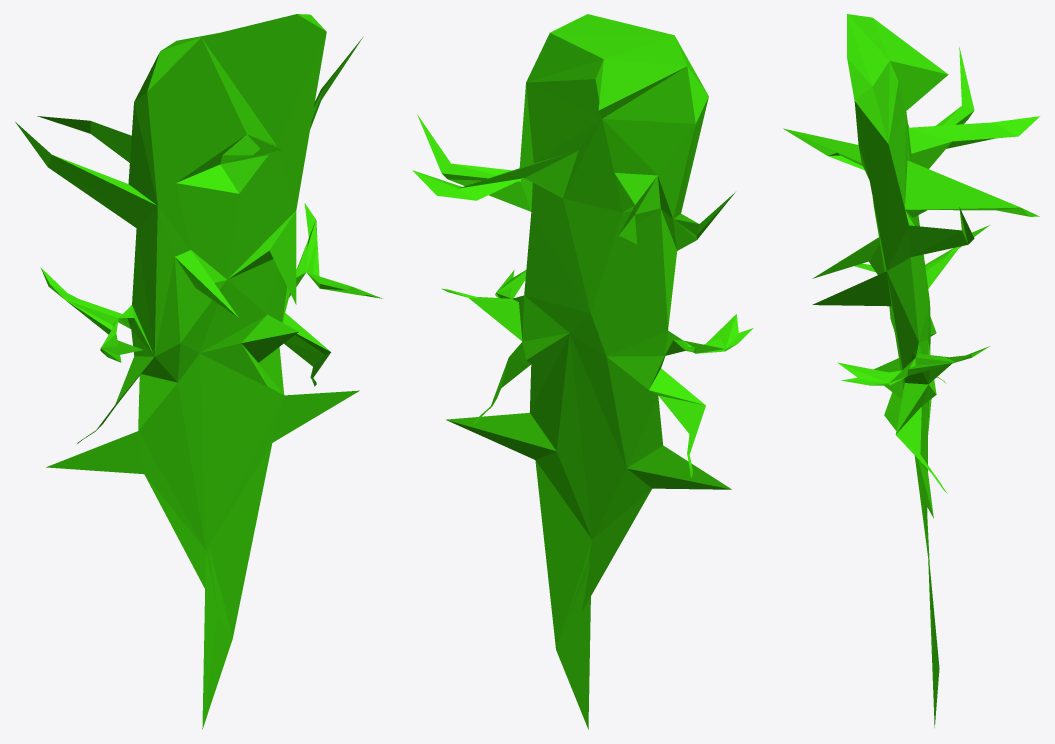
The model's file is Smaller Green Prion.fbx.
3 renders of one model, left to right at view 1: azimuth 30°, elevation 25°; view 2: azimuth 150°, elevation 25°; view 3: azimuth 270°, elevation 25°, orthographic. The views are drawn at different scales.
Parts seen in each view (by area): view 1: Prion:Mesh; view 2: Prion:Mesh; view 3: Prion:Mesh.
Part boxes in pixels (x1,y1,x2,y2): Prion:Mesh: (15, 14, 382, 729); Prion:Mesh: (412, 14, 753, 729); Prion:Mesh: (783, 14, 1040, 727).
Bounding box in the file's own units: 0.8379 × 1.69 × 0.5692.
